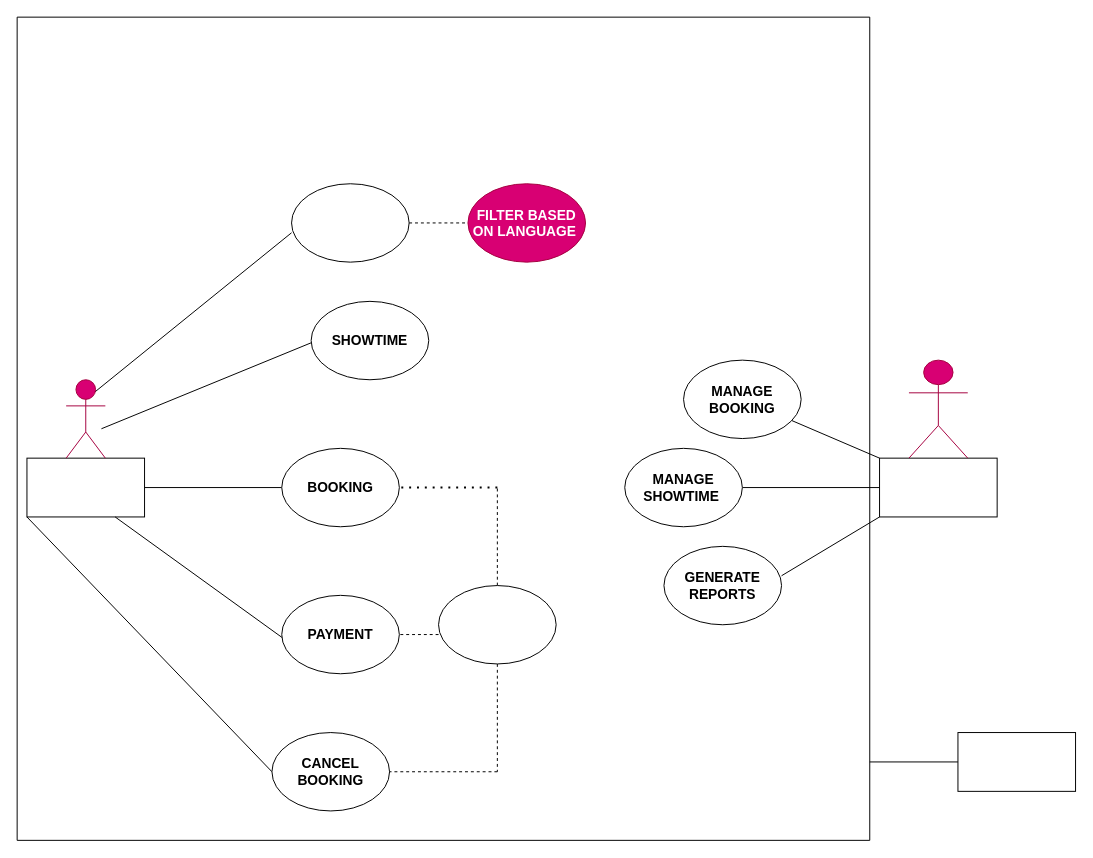
This 1093x858 diagram has some shape labels left out. Here are the shapes that lost their labels. From the top down, the box of each, then its label:
(291, 183, 409, 262): SEARCH
(26, 457, 145, 517): CUSTOMER
(879, 457, 997, 517): ADMIN
(438, 585, 556, 664): LOGIN
(957, 732, 1076, 791): SYSTEM BOUNDRY
